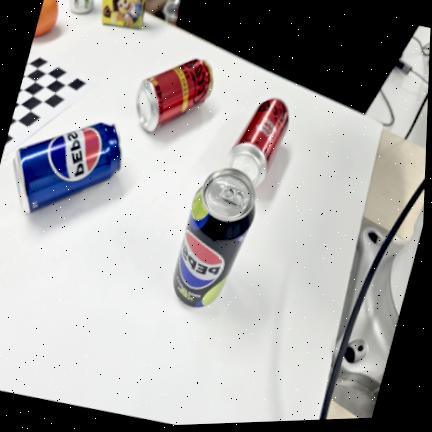can_coke_decaf: (136, 59, 213, 132)
can_coke_zero: (226, 99, 289, 186)
can_pepsi: (14, 123, 122, 213)
can_pepsi_zero: (173, 168, 255, 307)
